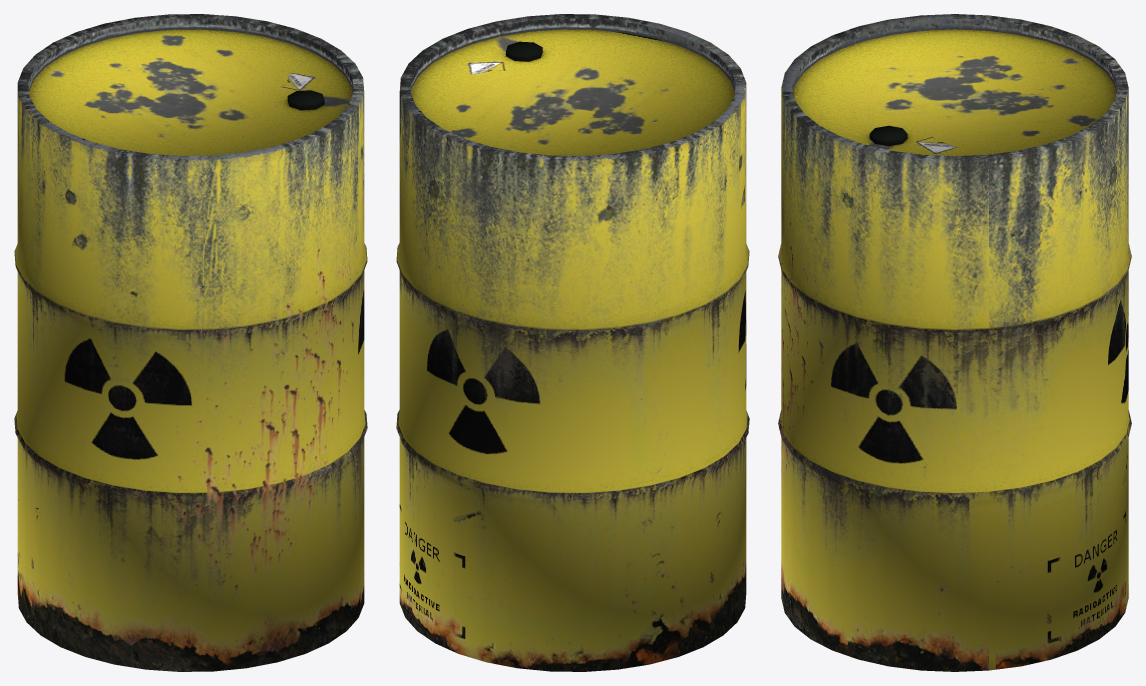
File: Radioactive_barrel.fbx
The picture shows the model from 3 angles, left to right: view 1: azimuth 30°, elevation 25°; view 2: azimuth 150°, elevation 25°; view 3: azimuth 270°, elevation 25°; orthographic projection.
Visible parts, largest first — view 1: Cylinder; view 2: Cylinder; view 3: Cylinder.
Boxes of the visible parts, box(x1,y1,x2,y2) form: Cylinder: box(14, 14, 367, 671); Cylinder: box(396, 14, 749, 671); Cylinder: box(778, 14, 1131, 671).
Bounding box in the file's own units: 732 × 1166 × 732.
